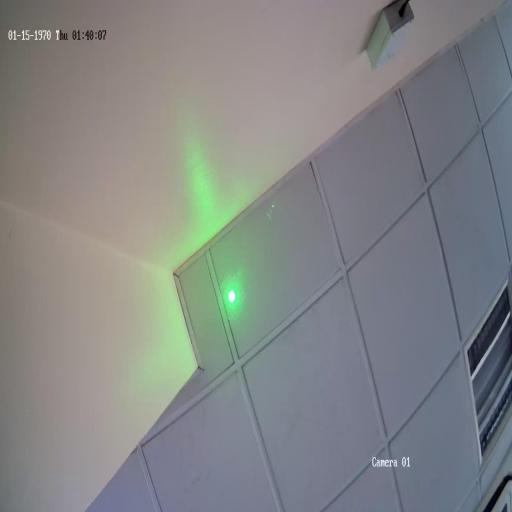laser: (226, 286, 238, 309)
